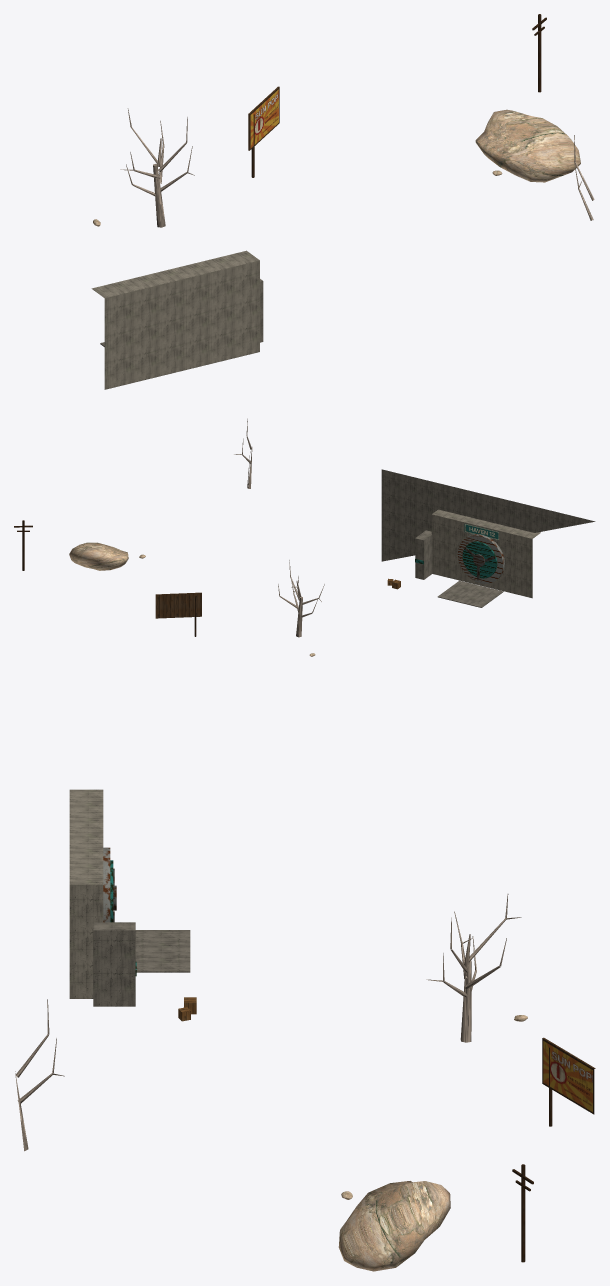
3 renders of one model, top to bottom at view 1: azimuth 30°, elevation 25°; view 2: azimuth 150°, elevation 25°; view 3: azimuth 270°, elevation 25°, orthographic. The views are drawn at different scales.
Parts seen in each view (by area): view 1: b_131, b_104, b_32, b_29, b_171; view 2: b_131, b_147, b_171, b_104, b_32; view 3: b_131, b_104, b_32, b_29, b_171, b_147.
Boxes of the visible parts, left/top/right/bottom form: b_131: left=91, top=250, right=263, bottom=389; b_104: left=475, top=109, right=580, bottom=182; b_32: left=120, top=108, right=594, bottom=227; b_29: left=250, top=89, right=278, bottom=148; b_171: left=248, top=14, right=546, bottom=177; b_131: left=381, top=469, right=595, bottom=607; b_147: left=415, top=534, right=504, bottom=583; b_171: left=14, top=520, right=400, bottom=636; b_104: left=69, top=542, right=128, bottom=570; b_32: left=234, top=418, right=324, bottom=637; b_131: left=69, top=789, right=190, bottom=1006; b_104: left=338, top=1181, right=450, bottom=1271; b_32: left=15, top=894, right=521, bottom=1151; b_29: left=543, top=1041, right=592, bottom=1111; b_171: left=178, top=997, right=595, bottom=1262; b_147: left=103, top=847, right=136, bottom=976.
Bounding box in the file's own units: 73.58 × 15.74 × 41.46.
Materials: 7 (7 with a texture image).
